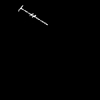treble_crochet: (20, 7, 42, 21)
